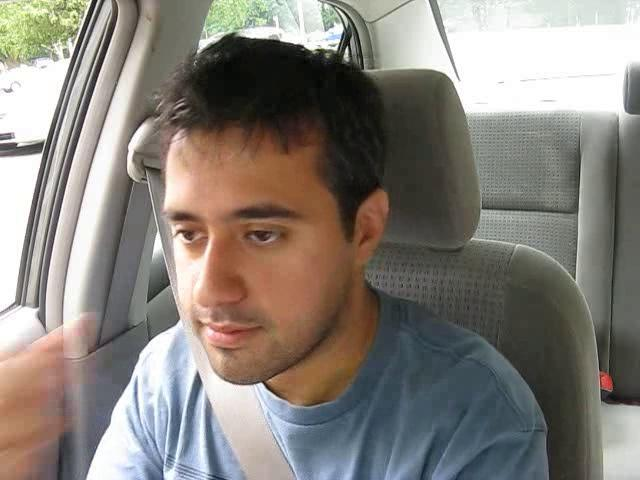close_eyeL: (159, 216, 214, 256)
close_eyeR: (229, 211, 301, 256)
no_yawn: (179, 305, 280, 359)
